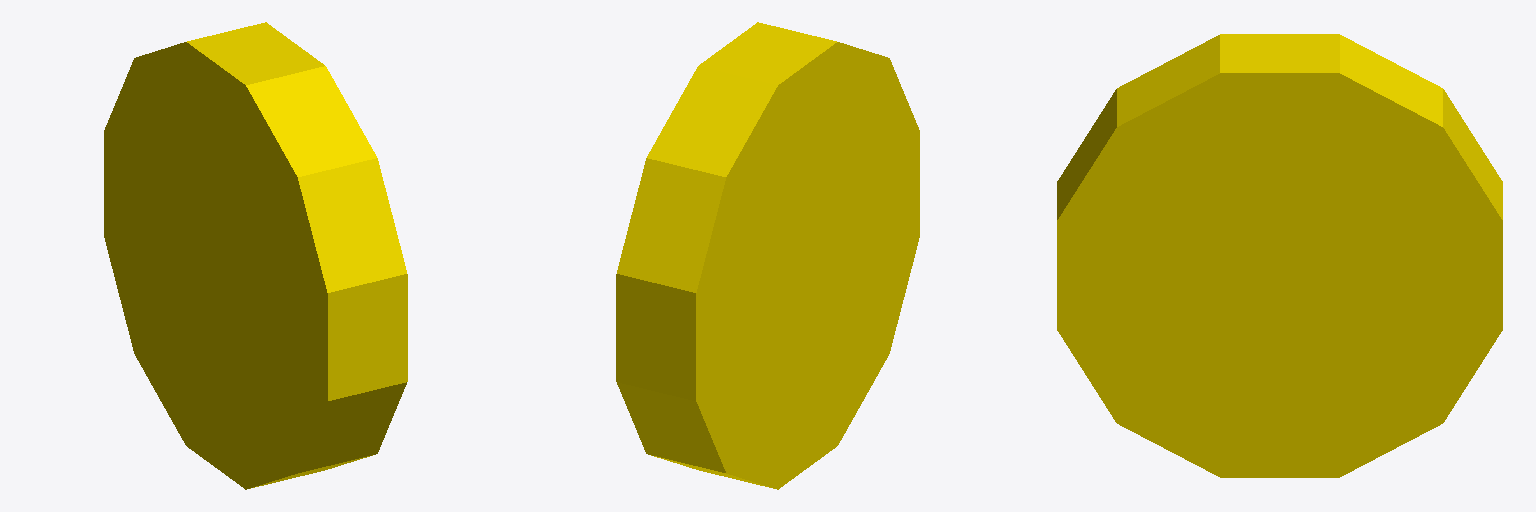
The model's file is Coin1.obj.
The picture shows the model from 3 angles: view 1: azimuth 30°, elevation 25°; view 2: azimuth 150°, elevation 25°; view 3: azimuth 270°, elevation 25°; orthographic projection.
Visible parts, largest first — view 1: Mesh1 Mesh1_Mesh1_Mesh1_Mesh2_cylinder01_1_skp1B9_1_Model_Model_; view 2: Mesh1 Mesh1_Mesh1_Mesh1_Mesh2_cylinder01_1_skp1B9_1_Model_Model_; view 3: Mesh1 Mesh1_Mesh1_Mesh1_Mesh2_cylinder01_1_skp1B9_1_Model_Model_.
Boxes of the visible parts, <box> form: Mesh1 Mesh1_Mesh1_Mesh1_Mesh2_cylinder01_1_skp1B9_1_Model_Model_: <box>104,22,407,489</box>; Mesh1 Mesh1_Mesh1_Mesh1_Mesh2_cylinder01_1_skp1B9_1_Model_Model_: <box>616,22,919,489</box>; Mesh1 Mesh1_Mesh1_Mesh1_Mesh2_cylinder01_1_skp1B9_1_Model_Model_: <box>1057,34,1502,477</box>.
Bounding box in the file's own units: 0.3 × 1.45 × 1.45.